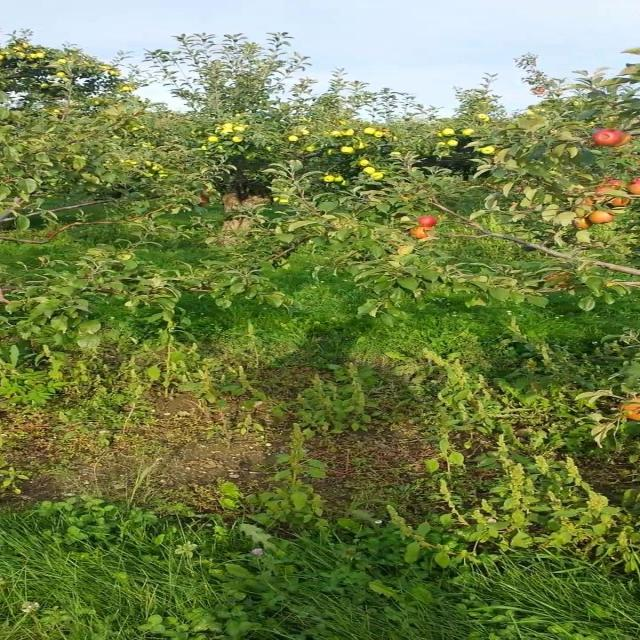apple: (0, 0, 640, 109), (591, 129, 622, 146), (620, 396, 640, 421), (544, 271, 571, 289), (587, 210, 616, 224), (613, 131, 633, 146), (409, 226, 431, 239), (609, 196, 631, 208), (418, 215, 438, 228), (573, 218, 591, 230), (596, 185, 618, 192), (606, 178, 624, 186), (596, 185, 616, 192), (340, 146, 356, 154), (480, 146, 496, 154), (440, 128, 456, 136), (371, 171, 384, 180), (582, 196, 596, 204), (362, 166, 376, 174), (460, 129, 476, 136), (362, 128, 376, 135), (322, 175, 336, 182), (373, 130, 384, 138), (0, 52, 9, 61), (476, 114, 489, 120), (353, 142, 364, 149), (342, 129, 353, 136), (358, 159, 369, 166), (222, 122, 233, 129), (287, 135, 298, 141), (333, 176, 344, 182), (278, 198, 289, 204), (447, 140, 458, 146), (231, 136, 242, 142), (207, 136, 218, 142), (233, 125, 244, 131), (109, 70, 120, 76), (389, 151, 402, 156), (480, 114, 489, 121), (436, 141, 447, 146), (220, 129, 231, 134), (120, 86, 131, 91), (122, 86, 133, 91), (331, 130, 340, 136), (29, 52, 38, 58), (20, 41, 29, 47), (304, 146, 314, 151), (36, 52, 44, 58), (16, 52, 24, 58), (264, 146, 273, 151), (58, 59, 67, 64), (100, 65, 109, 70), (56, 71, 64, 76), (273, 196, 280, 201), (40, 82, 47, 87), (436, 131, 442, 136), (340, 180, 347, 184), (200, 145, 207, 149), (60, 78, 69, 81), (107, 70, 113, 73), (476, 149, 481, 151)
